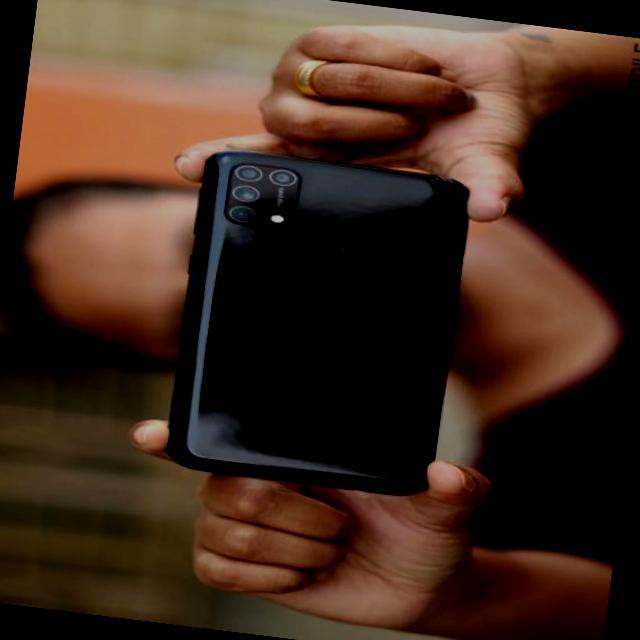lens_back: (230, 158, 264, 184), (266, 164, 300, 190), (229, 180, 262, 206), (226, 202, 258, 226)
phone: (168, 147, 470, 496)
